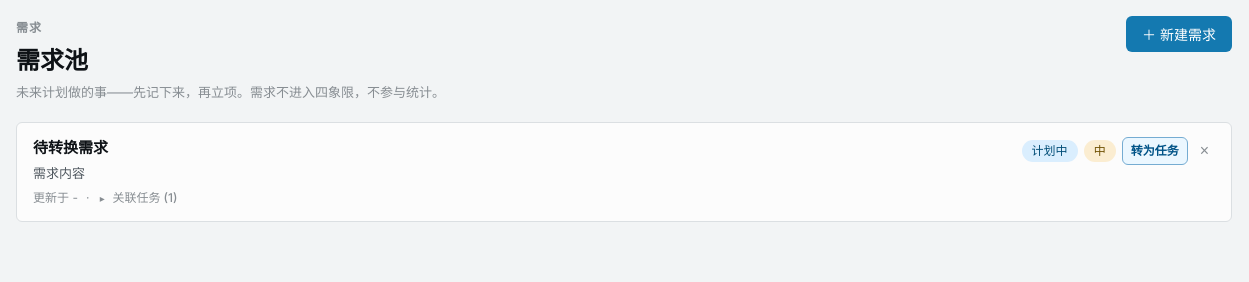
it: RequirementsView › keeps the linked-task entry inline and does not open the editor when expanded
Expected: the button with class "req-promote" is shown, [1122, 137, 1188, 165]
Expected: the text "更新于 -" is shown, [33, 189, 78, 207]
Click the button with class "req-linked-toggle" at (137, 198), box [97, 189, 177, 207]
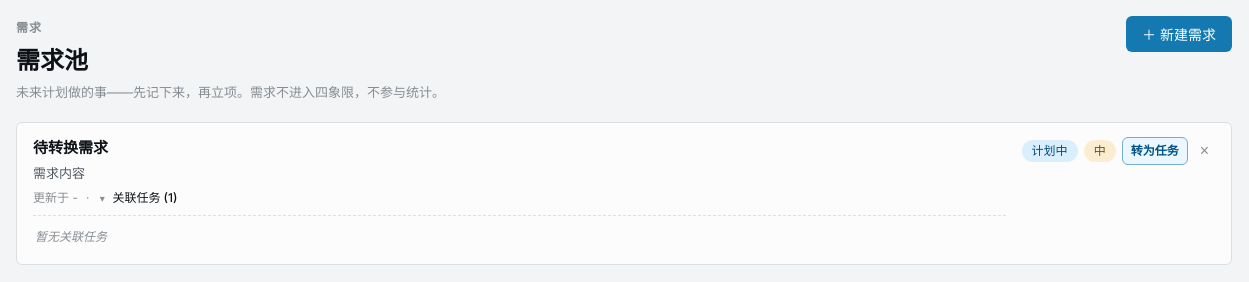
Now the element with class "req-linked-body" is shown, box [33, 215, 1006, 250]
